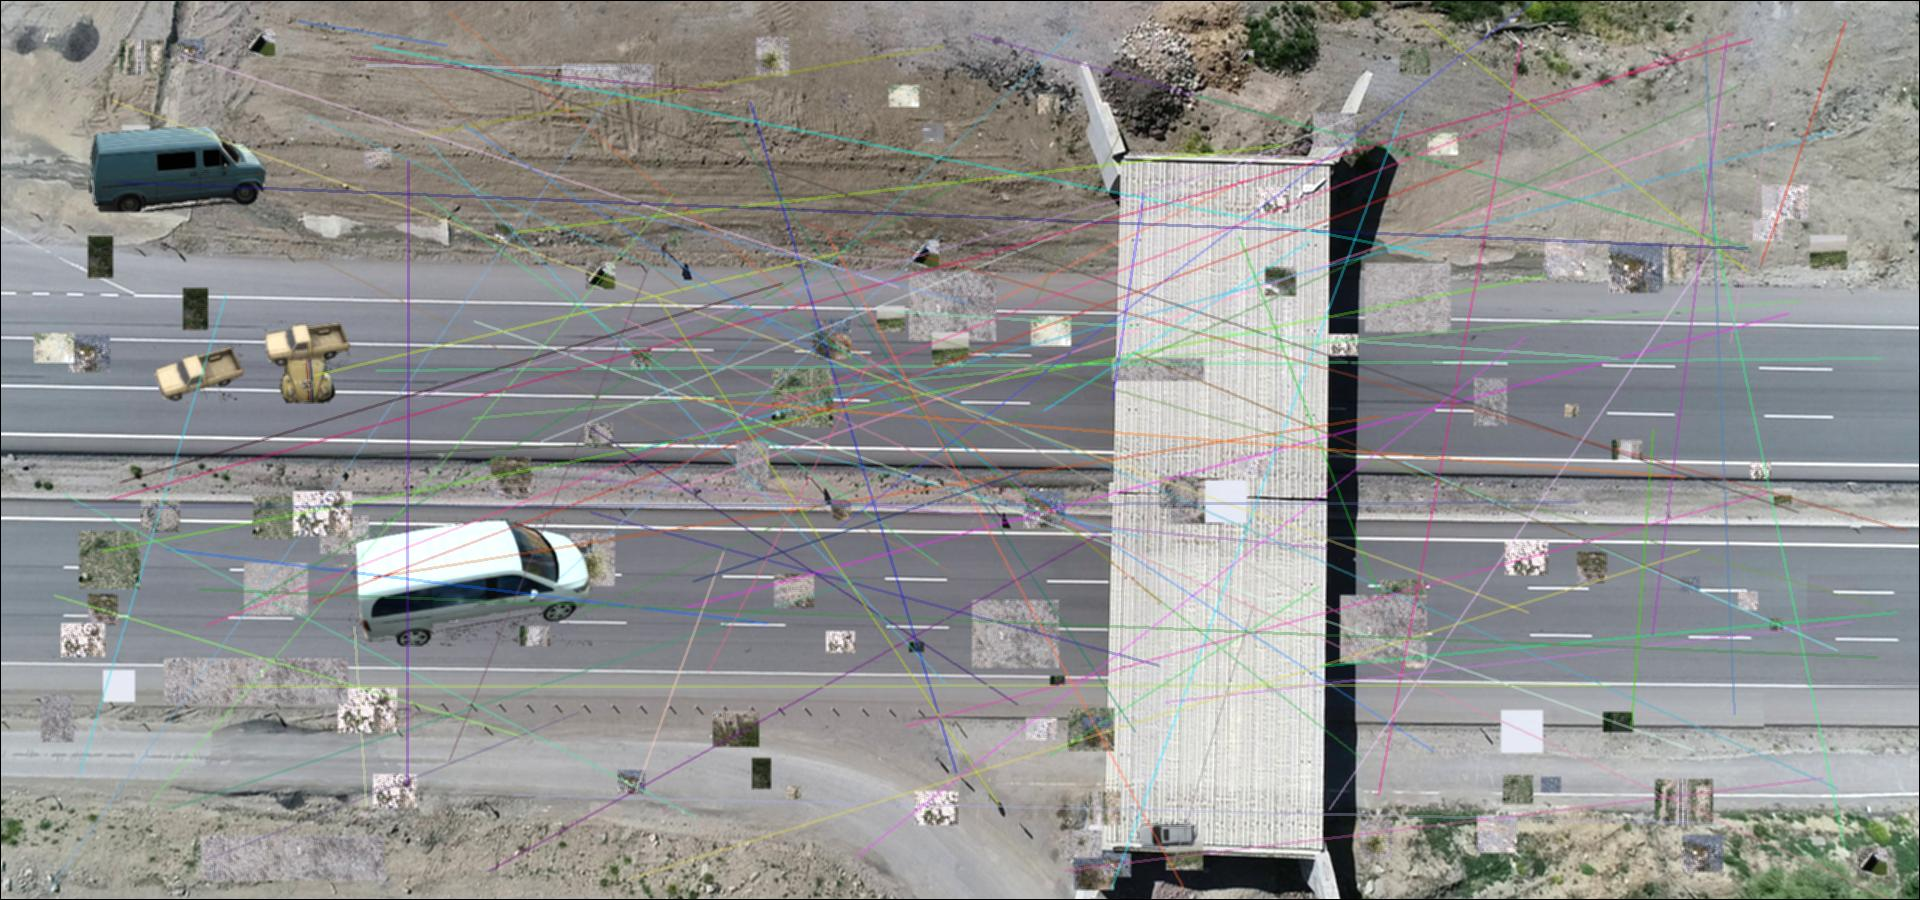arac: (349, 519, 591, 647), (89, 127, 266, 212), (154, 345, 244, 403), (280, 326, 336, 403), (263, 321, 350, 367), (1138, 820, 1198, 849)
